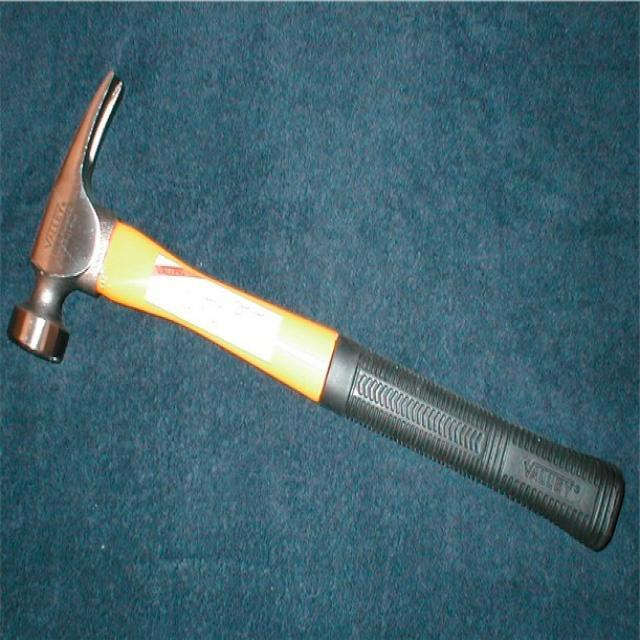hammer: (0, 52, 633, 564)
